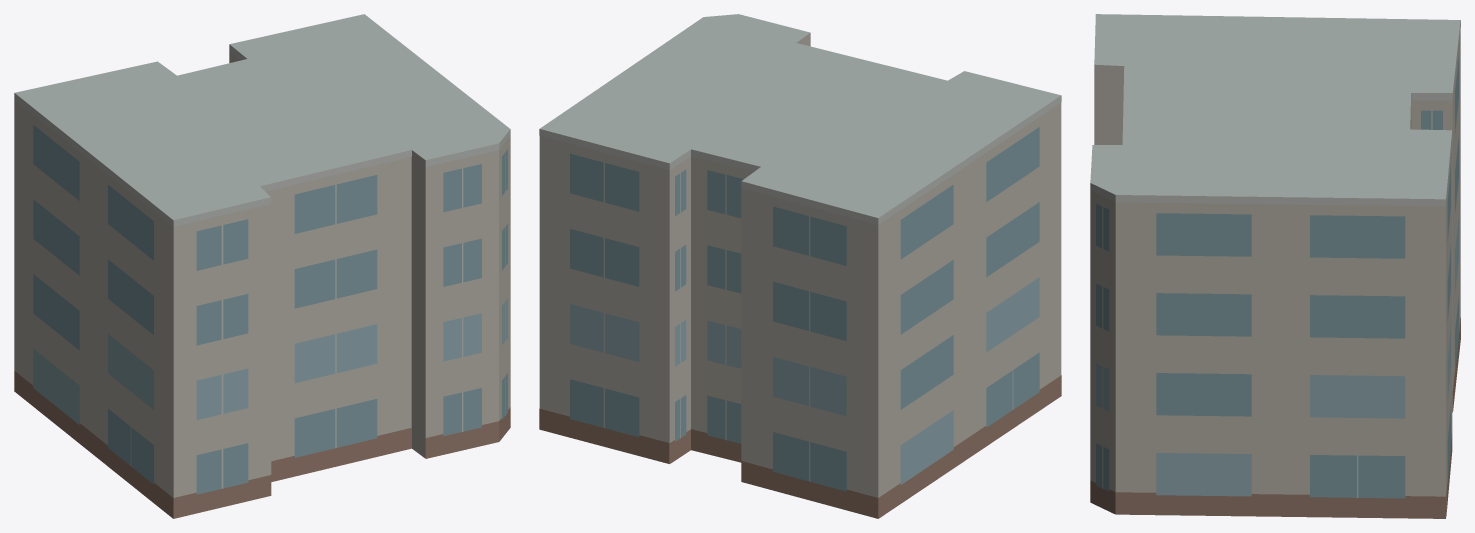
The model's file is survey-upis-32977444.glb.
3 renders of one model, left to right at view 1: azimuth 30°, elevation 25°; view 2: azimuth 150°, elevation 25°; view 3: azimuth 270°, elevation 25°, orthographic. The views are drawn at different scales.
Parts seen in each view (by area): view 1: survey-upis-32977444.tmp; view 2: survey-upis-32977444.tmp; view 3: survey-upis-32977444.tmp.
Boxes of the visible parts, box(x1,y1,x2,y2) form: survey-upis-32977444.tmp: box(14, 14, 510, 518); survey-upis-32977444.tmp: box(539, 14, 1061, 518); survey-upis-32977444.tmp: box(1090, 14, 1460, 518).
Size of the model in its own units: 13.31 by 10.7 by 11.25.
